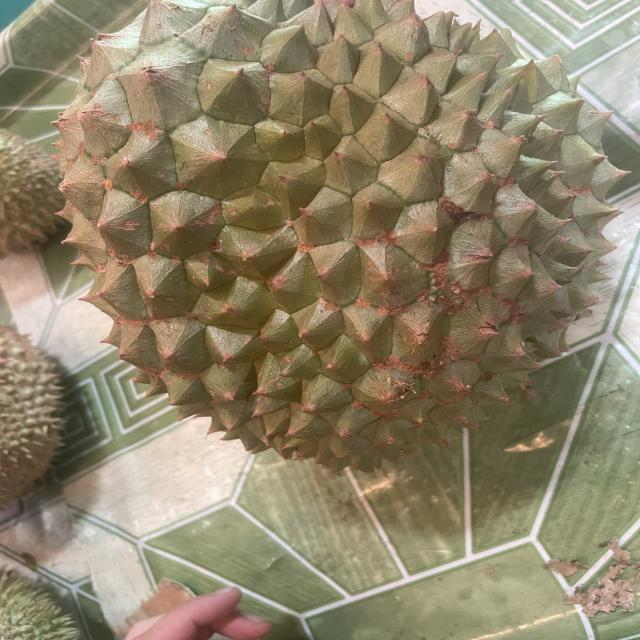mature: (47, 0, 623, 467)
